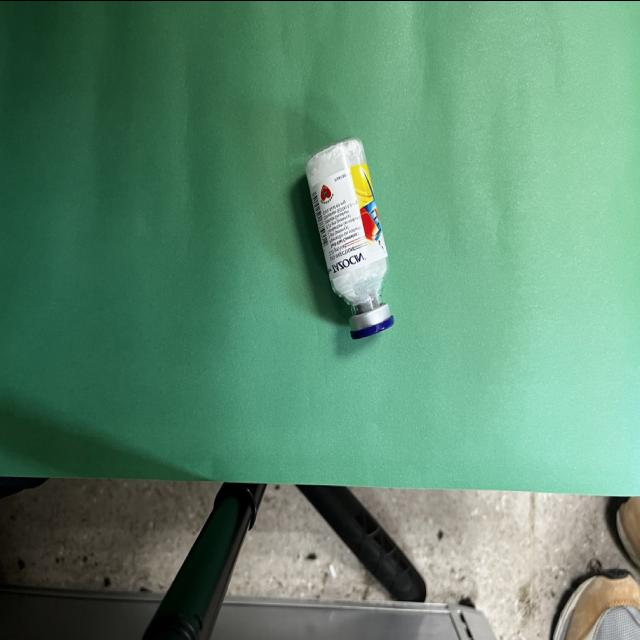Vials: (306, 139, 394, 339)
